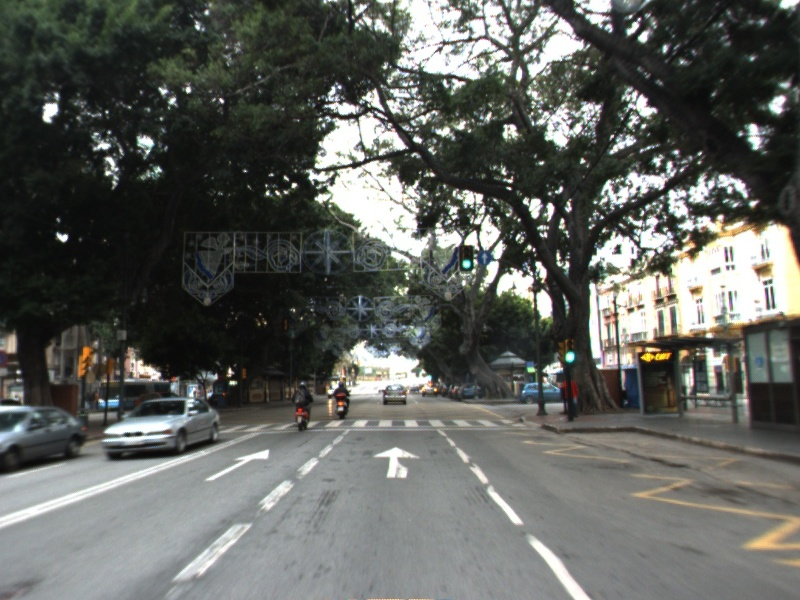STRAIGHT: (203, 447, 271, 482), (371, 444, 423, 480)
